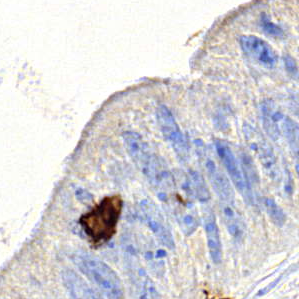Lymphocyte: (79, 195, 125, 245)
